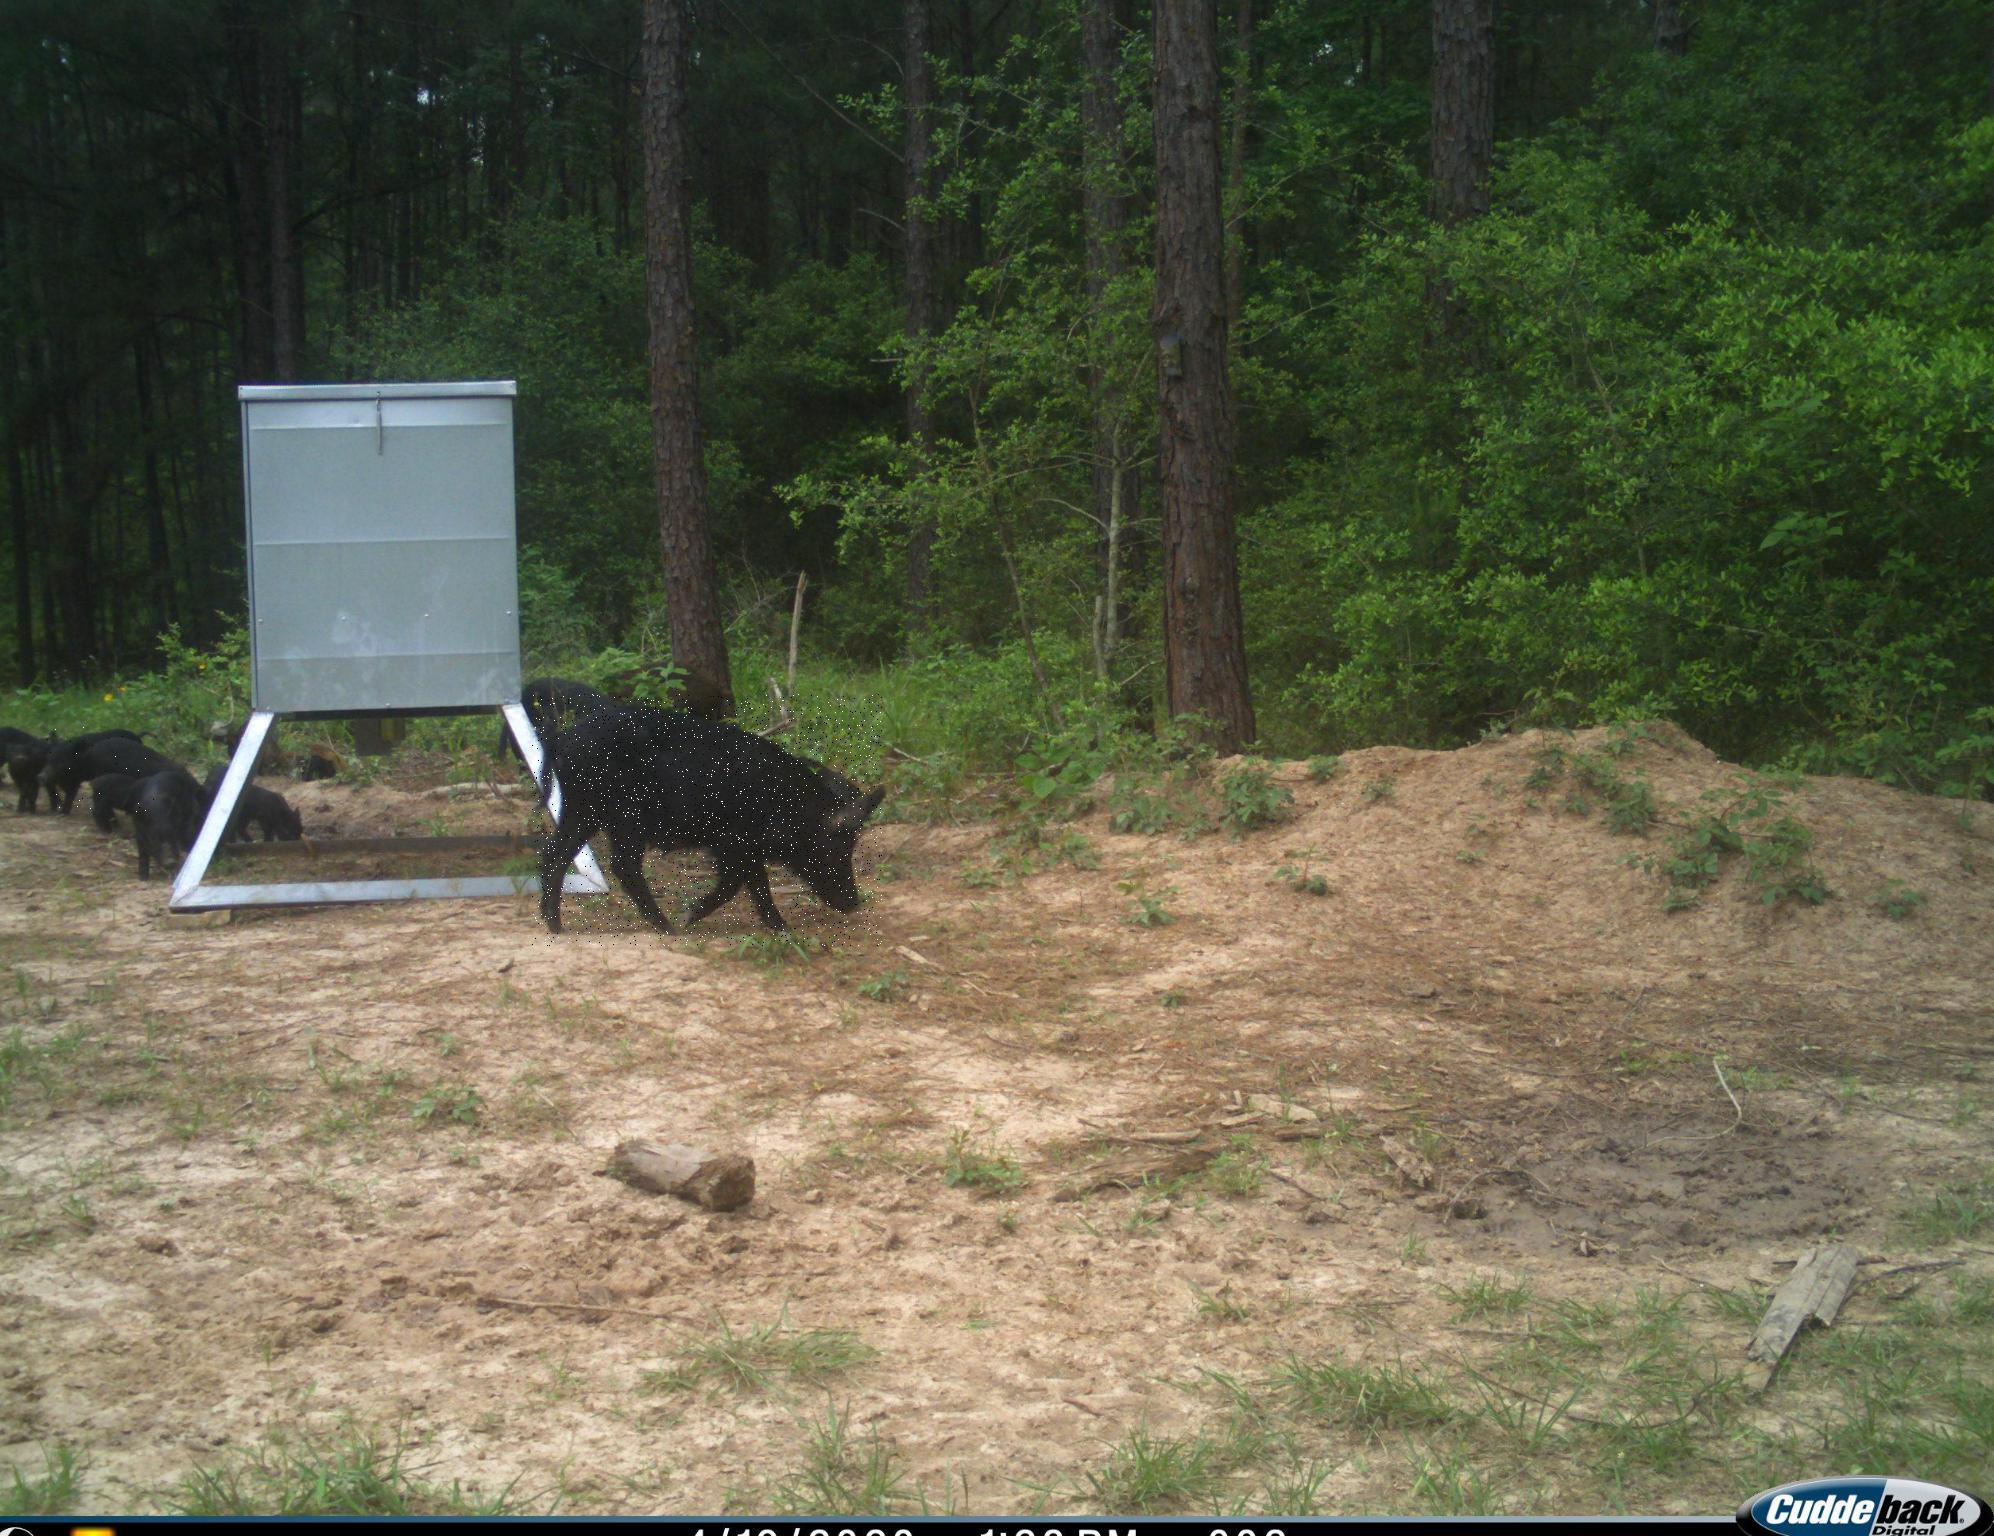Hog: (532, 694, 882, 945), (45, 726, 156, 812)
